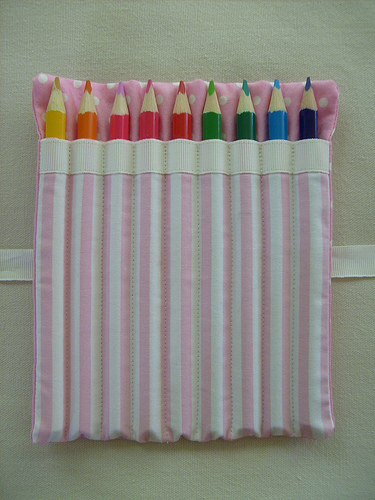pen_tip: (106, 81, 138, 134), (135, 80, 165, 135), (261, 73, 291, 126), (228, 78, 261, 125), (73, 77, 101, 132), (43, 78, 69, 133), (197, 77, 226, 126), (297, 75, 323, 126), (169, 81, 197, 125)
